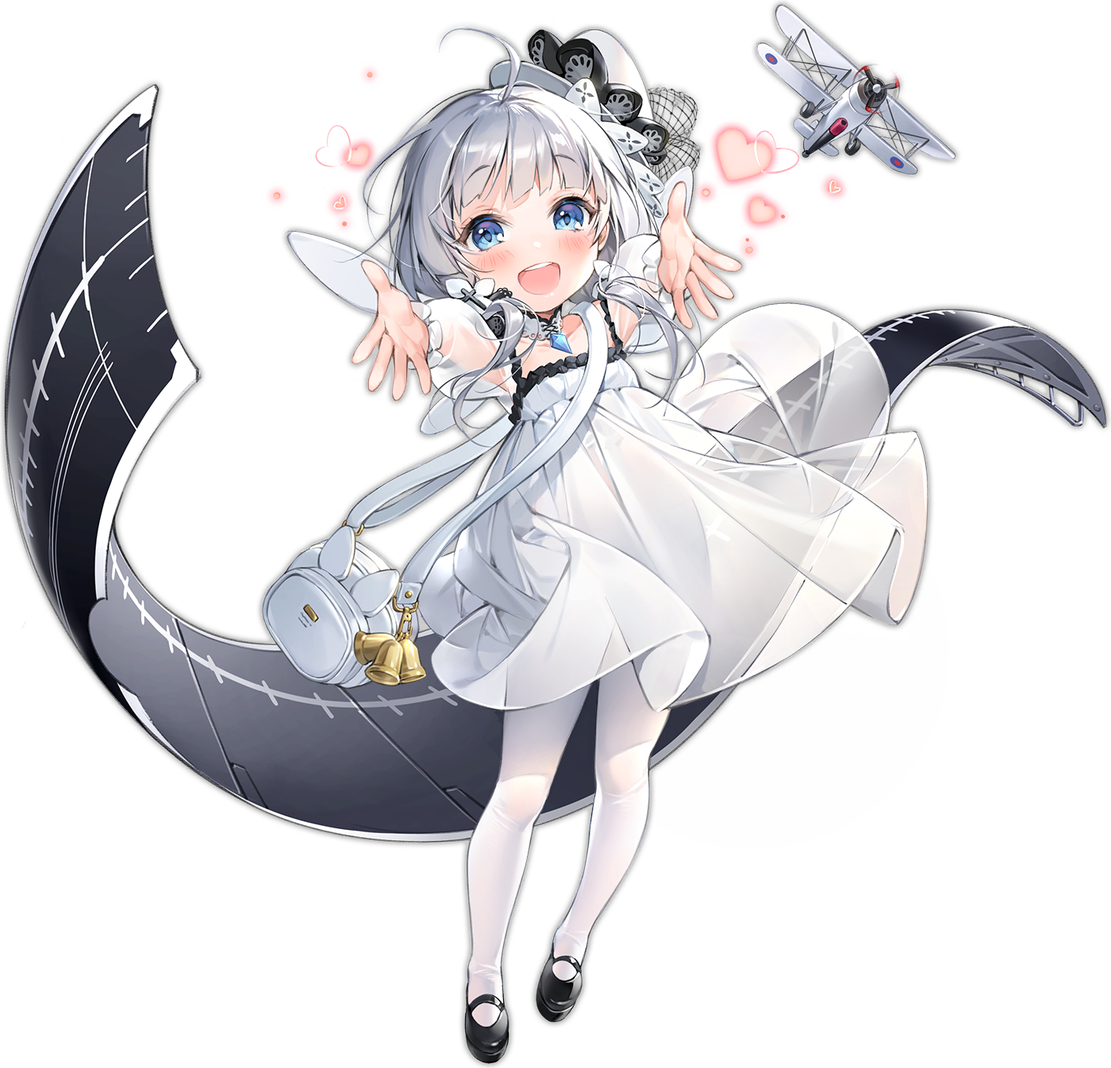person: (198, 4, 1109, 1066)
